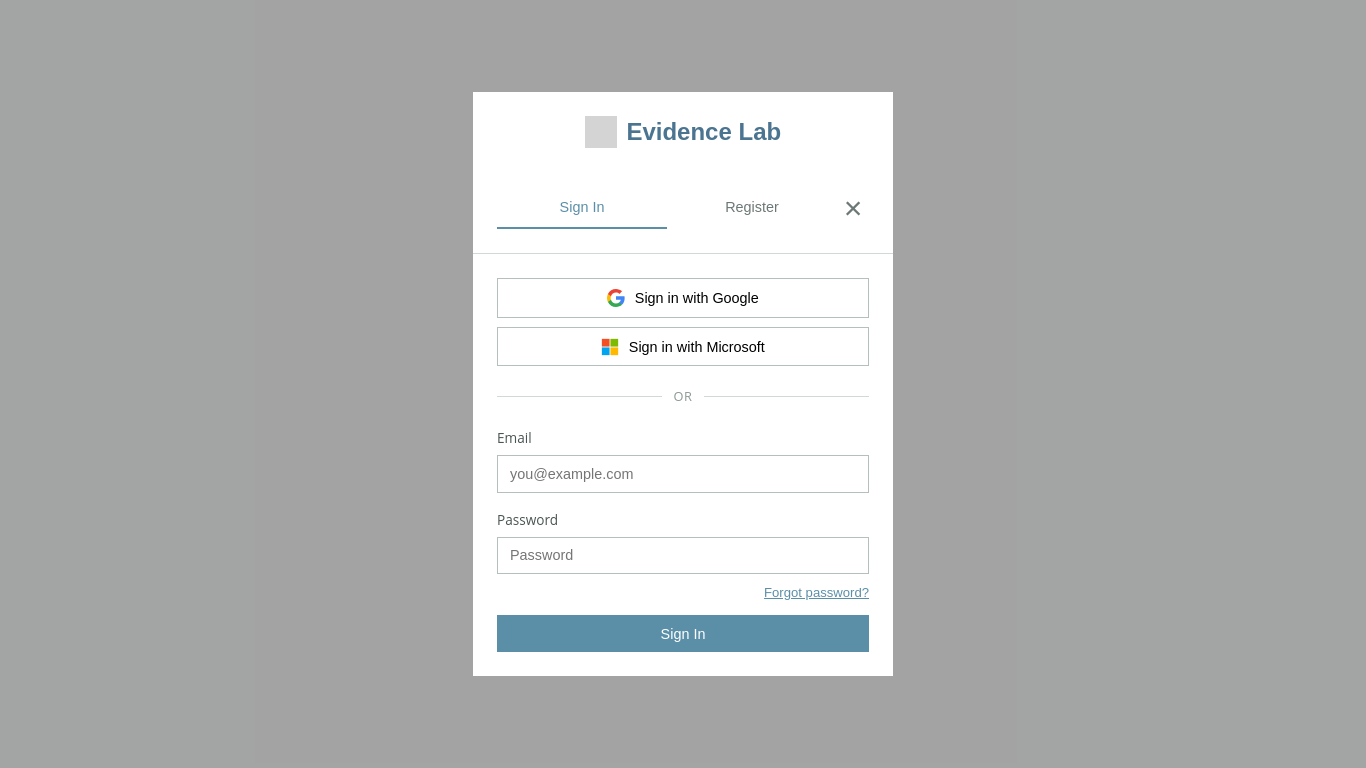
Test: LoginModal — Forgot password › returns to login mode when "Back to Sign In" is clicked
The image size is (1366, 768).
Check: the button "Sign in with Google" is shown, box [497,278,869,318]
Click the button "Forgot password?": point(817, 592) [764,585,869,600]
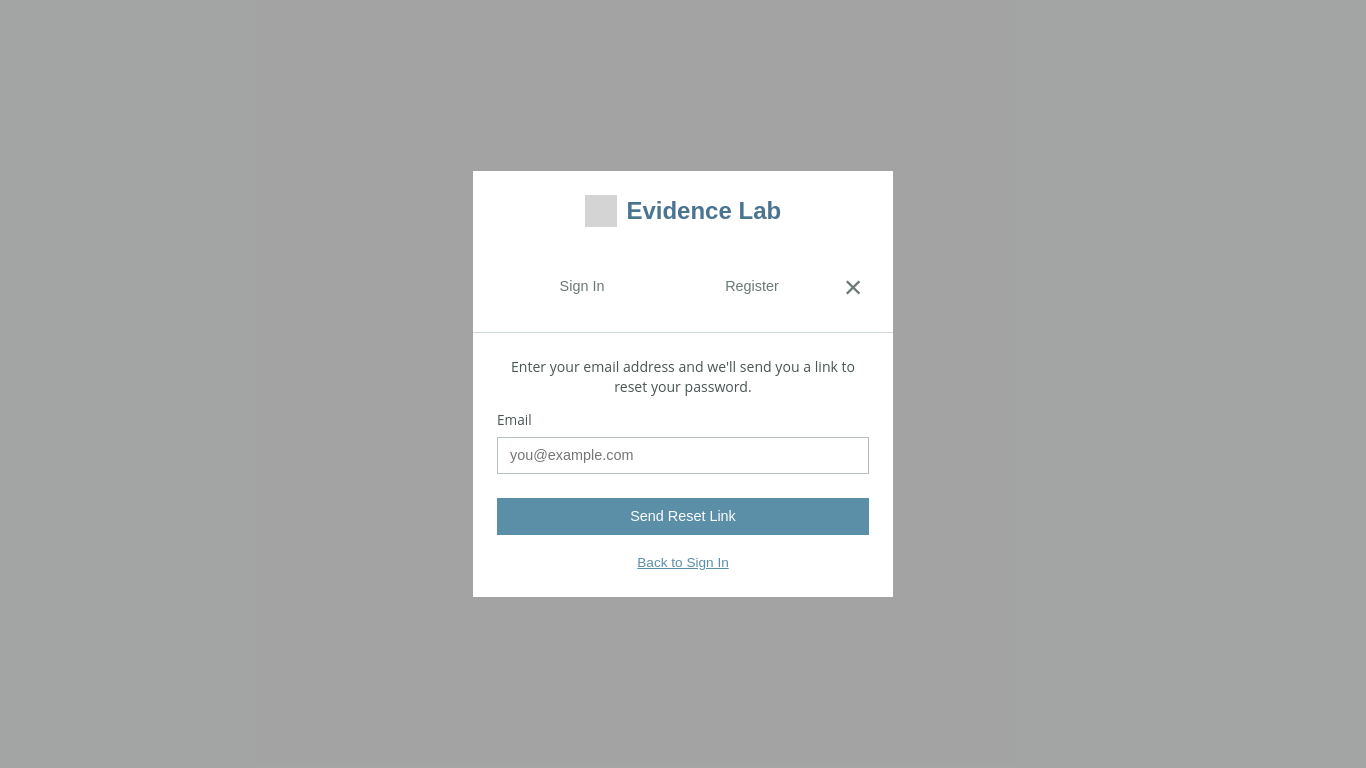
Click the button "Back to Sign In": point(683, 562) [637,555,729,570]
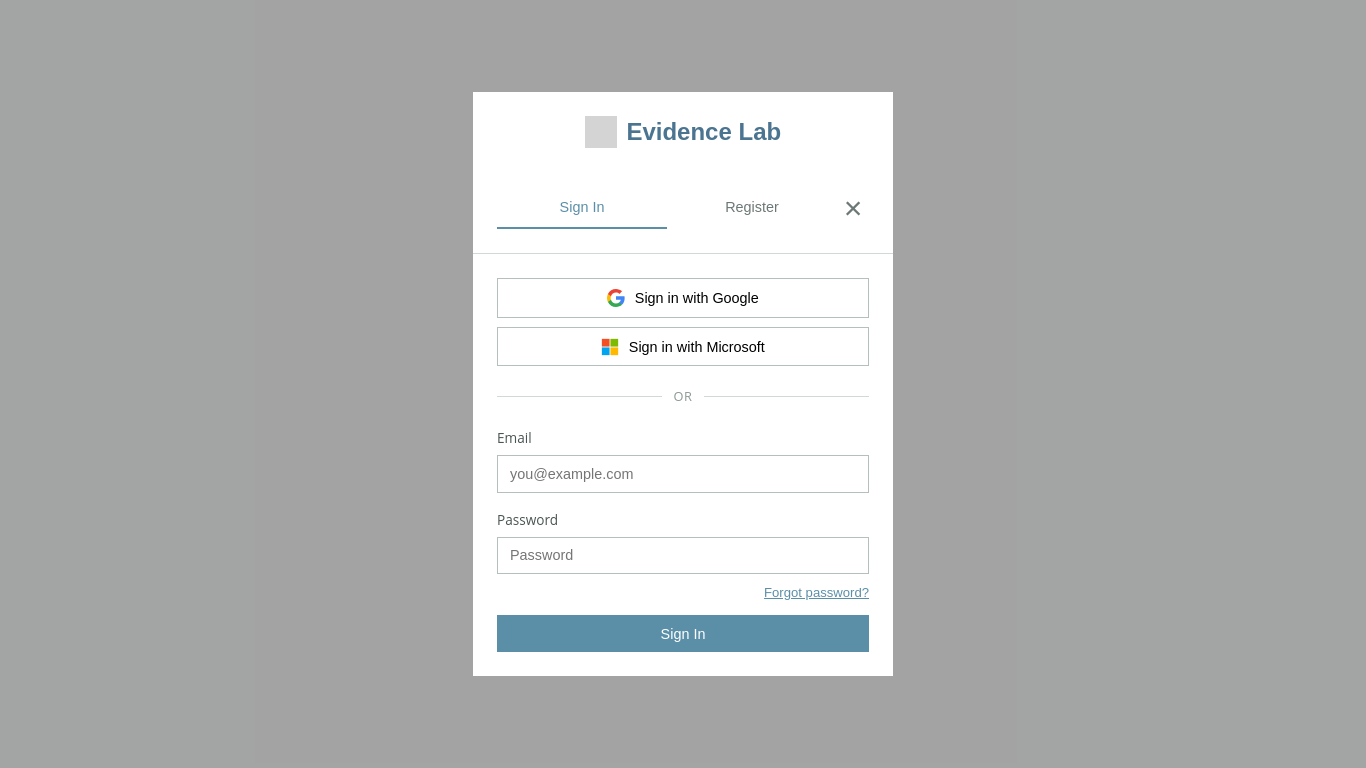
Check: the button "Sign in with Google" is shown, box [497,278,869,318]
Check: the button "Forgot password?" is shown, box [764,585,869,600]
